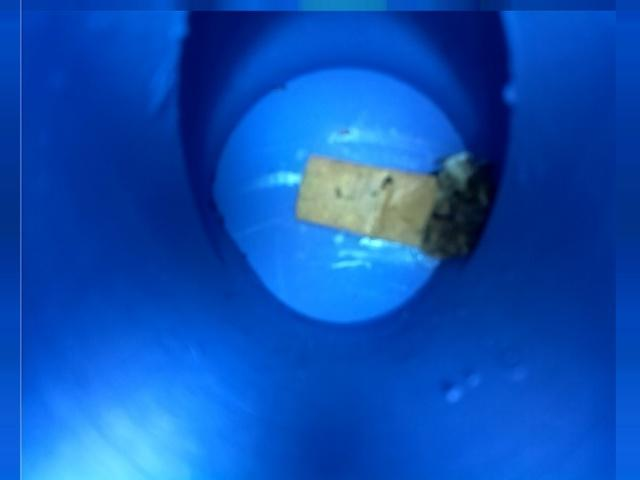megot: (290, 145, 498, 265)
